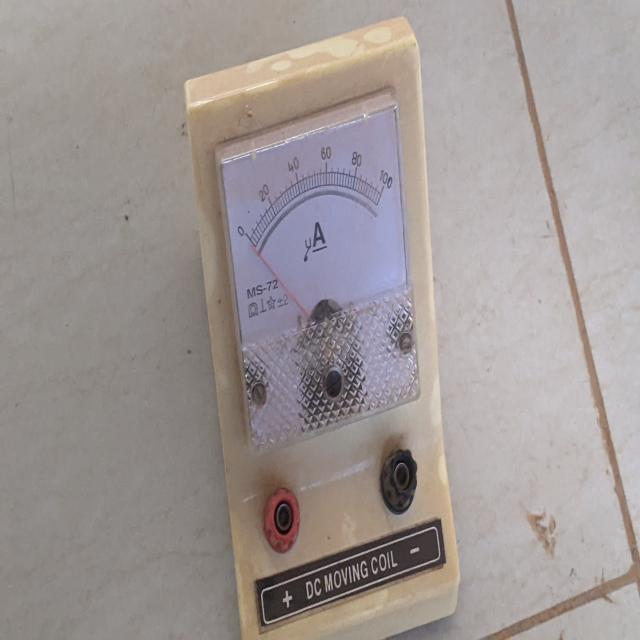Ammeter Analog: (192, 13, 466, 636)
